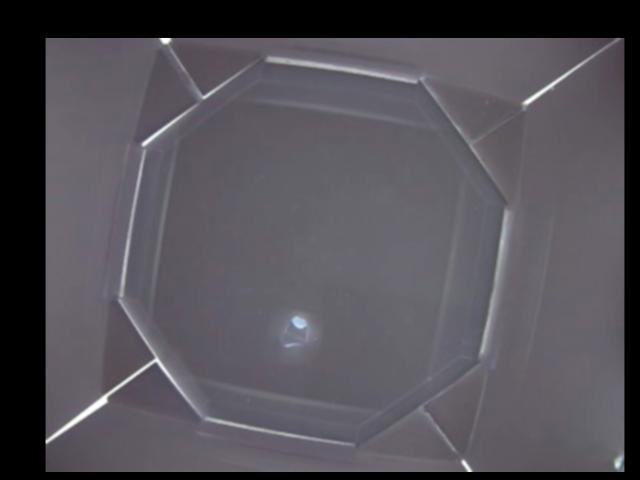China: (280, 315, 311, 345)
